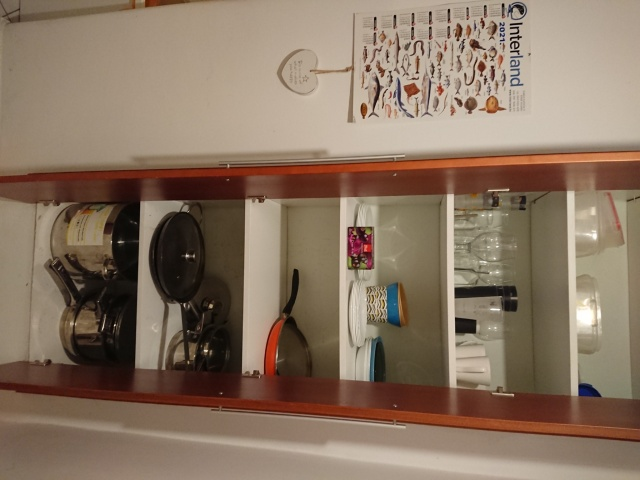Franck Black Currant Tea 60g: (345, 224, 377, 272)
